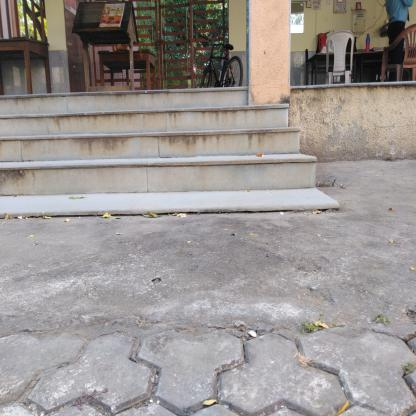stairs: (1, 84, 249, 218)
